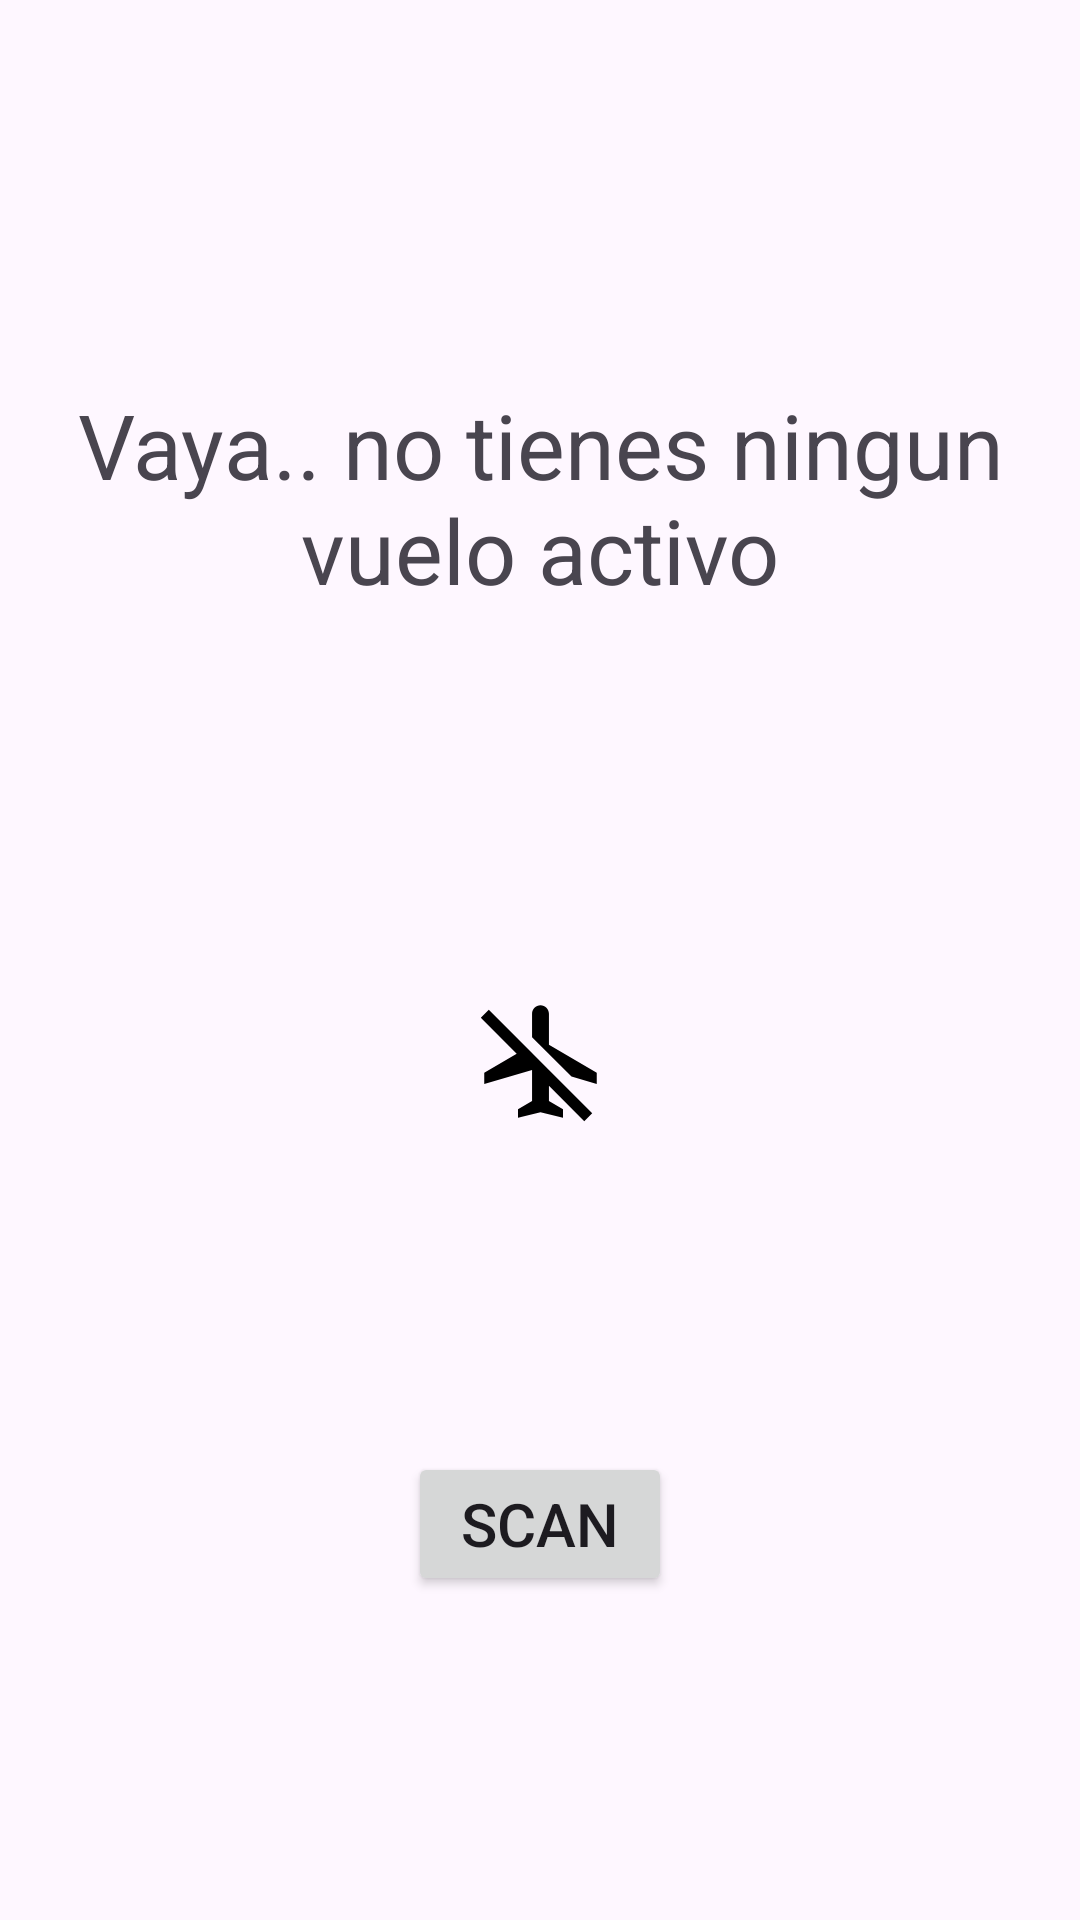

Locate icon controls on the screen. Image size 1080w x 1920h, boxes as (x1, y1, x2, y2).
no plane: (481, 1005, 597, 1121)
